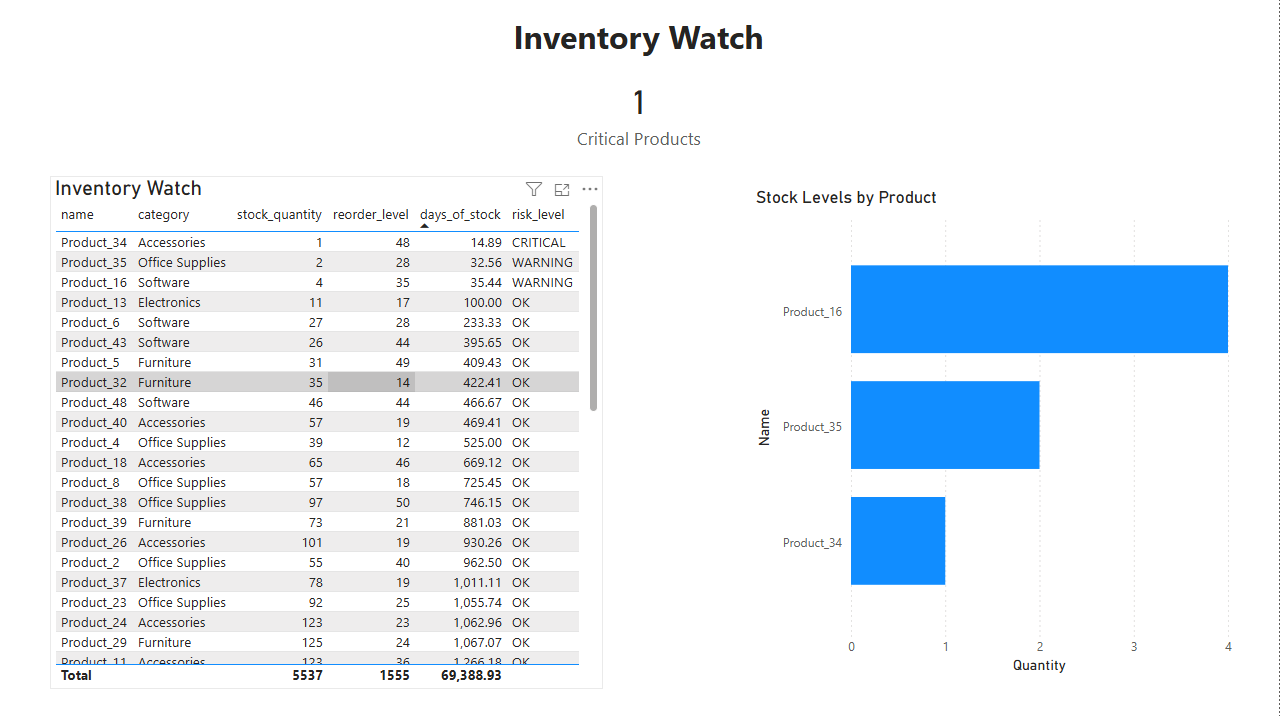

This screenshot's page, from the dashboard's own definition file:
{"tool":"powerbi","page":{"name":"Inventory Watch","canvas":[1280,720],"ordinal":4},"visuals":[{"type":"textbox","box":[468,11,343,57],"z":0},{"type":"tableEx","title":"Inventory Watch","fields":{"Values":["stockout_alerts.name","stockout_alerts.category","Sum(stockout_alerts.stock_quantity)","Sum(stockout_alerts.reorder_level)","Sum(stockout_alerts.days_of_stock)","stockout_alerts.risk_level"]},"box":[51,178,553,513],"z":1000},{"type":"card","fields":{"Values":["CountNonNull(stockout_alerts.name)"]},"box":[528,68,224,89],"z":2000},{"type":"barChart","title":"Stock Levels by Product","fields":{"Category":["stockout_alerts.name"],"Y":["Sum(stockout_alerts.stock_quantity)"]},"box":[752,189,486,491],"z":2001}]}

Visuals, with their boxes in screenshot pixels (x1, y1, x2, y2), scaled from the page's 1280x720 canvas onto the 1280x716 screenshot:
textbox: 468/11/811/68
"Inventory Watch" tableEx: 51/177/604/687
card - CountNonNull(stockout_alerts.name): 528/68/752/156
"Stock Levels by Product" barChart: 752/188/1238/676
